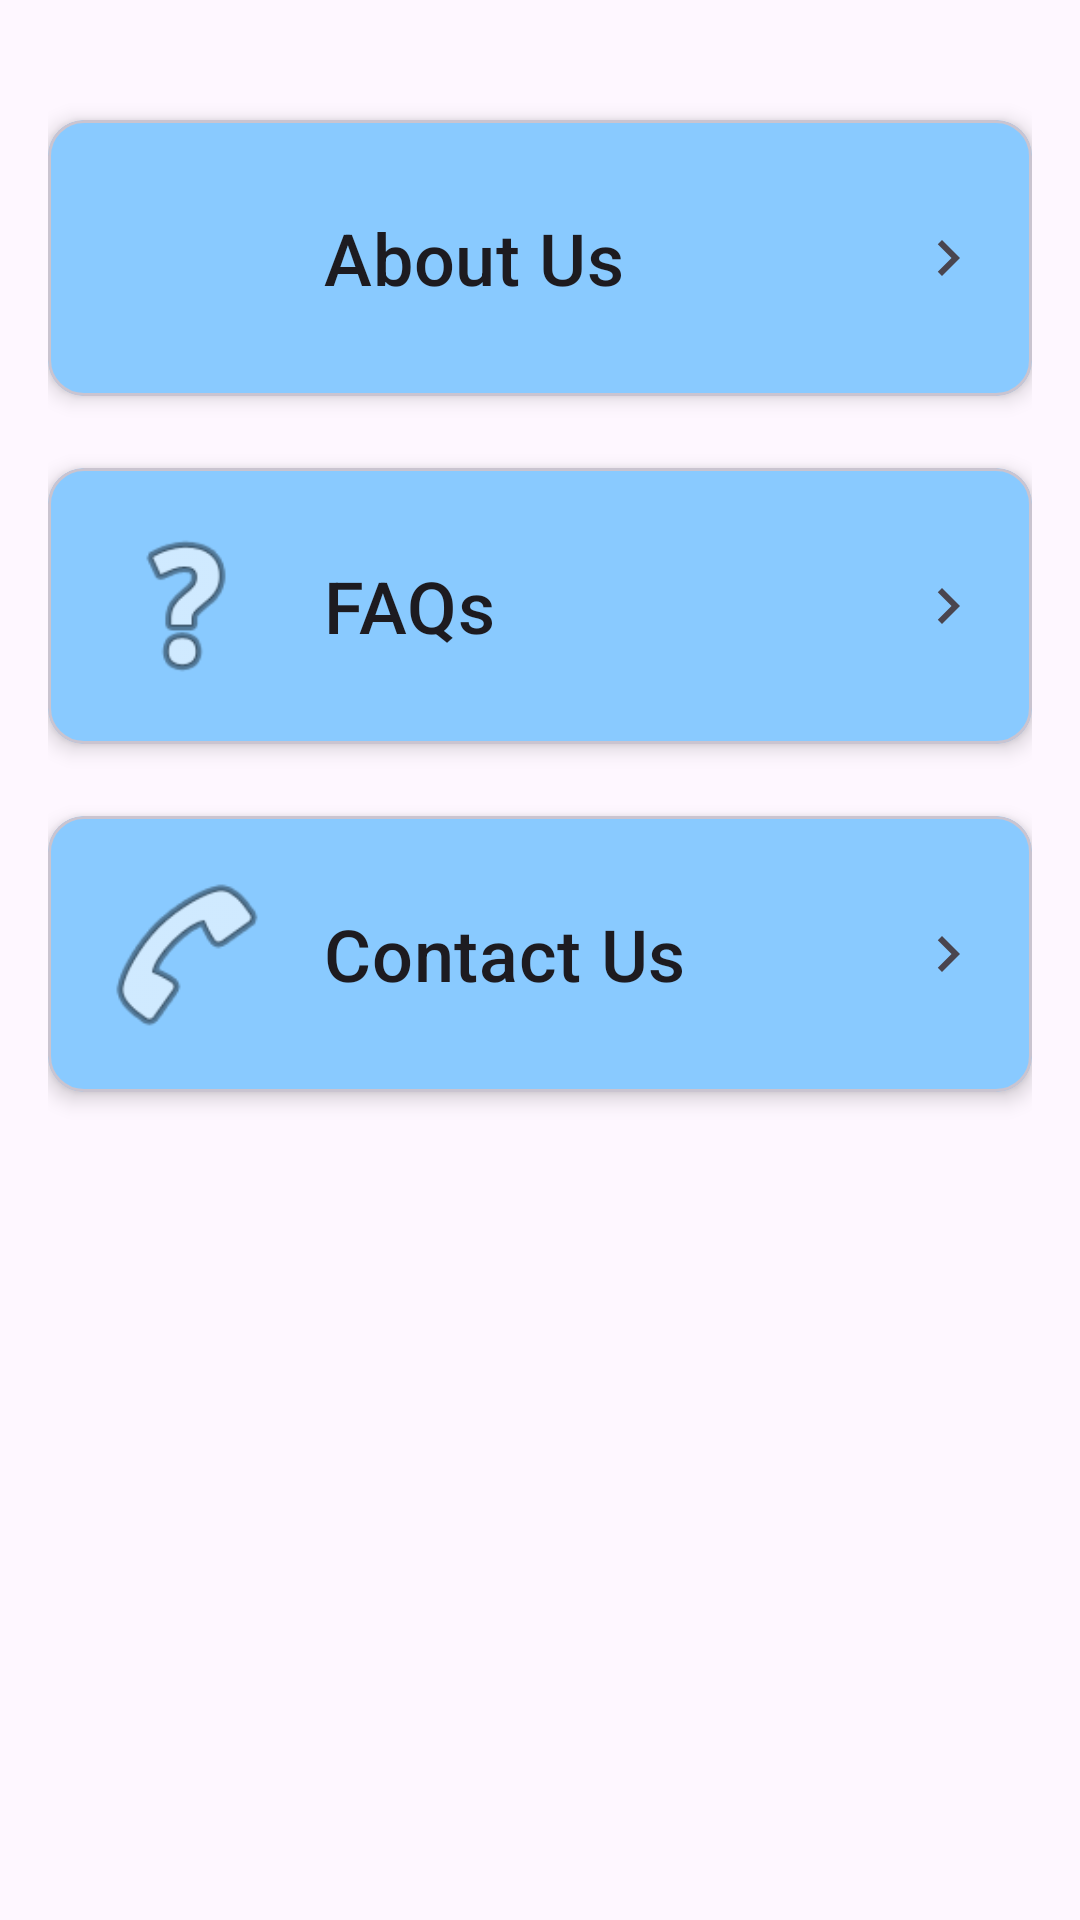

Named icons in this screenshot (1080*1920) and their bounding boxes, box=[x1, y1, x2, y2]:
call: box=[116, 884, 258, 1025]
chevron right: box=[938, 240, 960, 276], box=[938, 588, 960, 624], box=[938, 936, 960, 972]
help: box=[147, 541, 226, 671]
